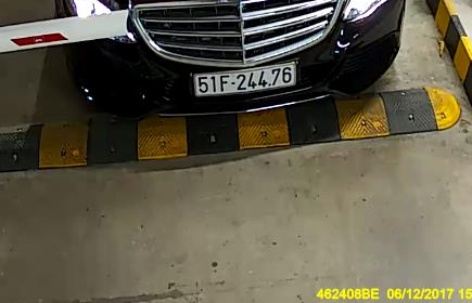plate: (194, 59, 296, 98)
